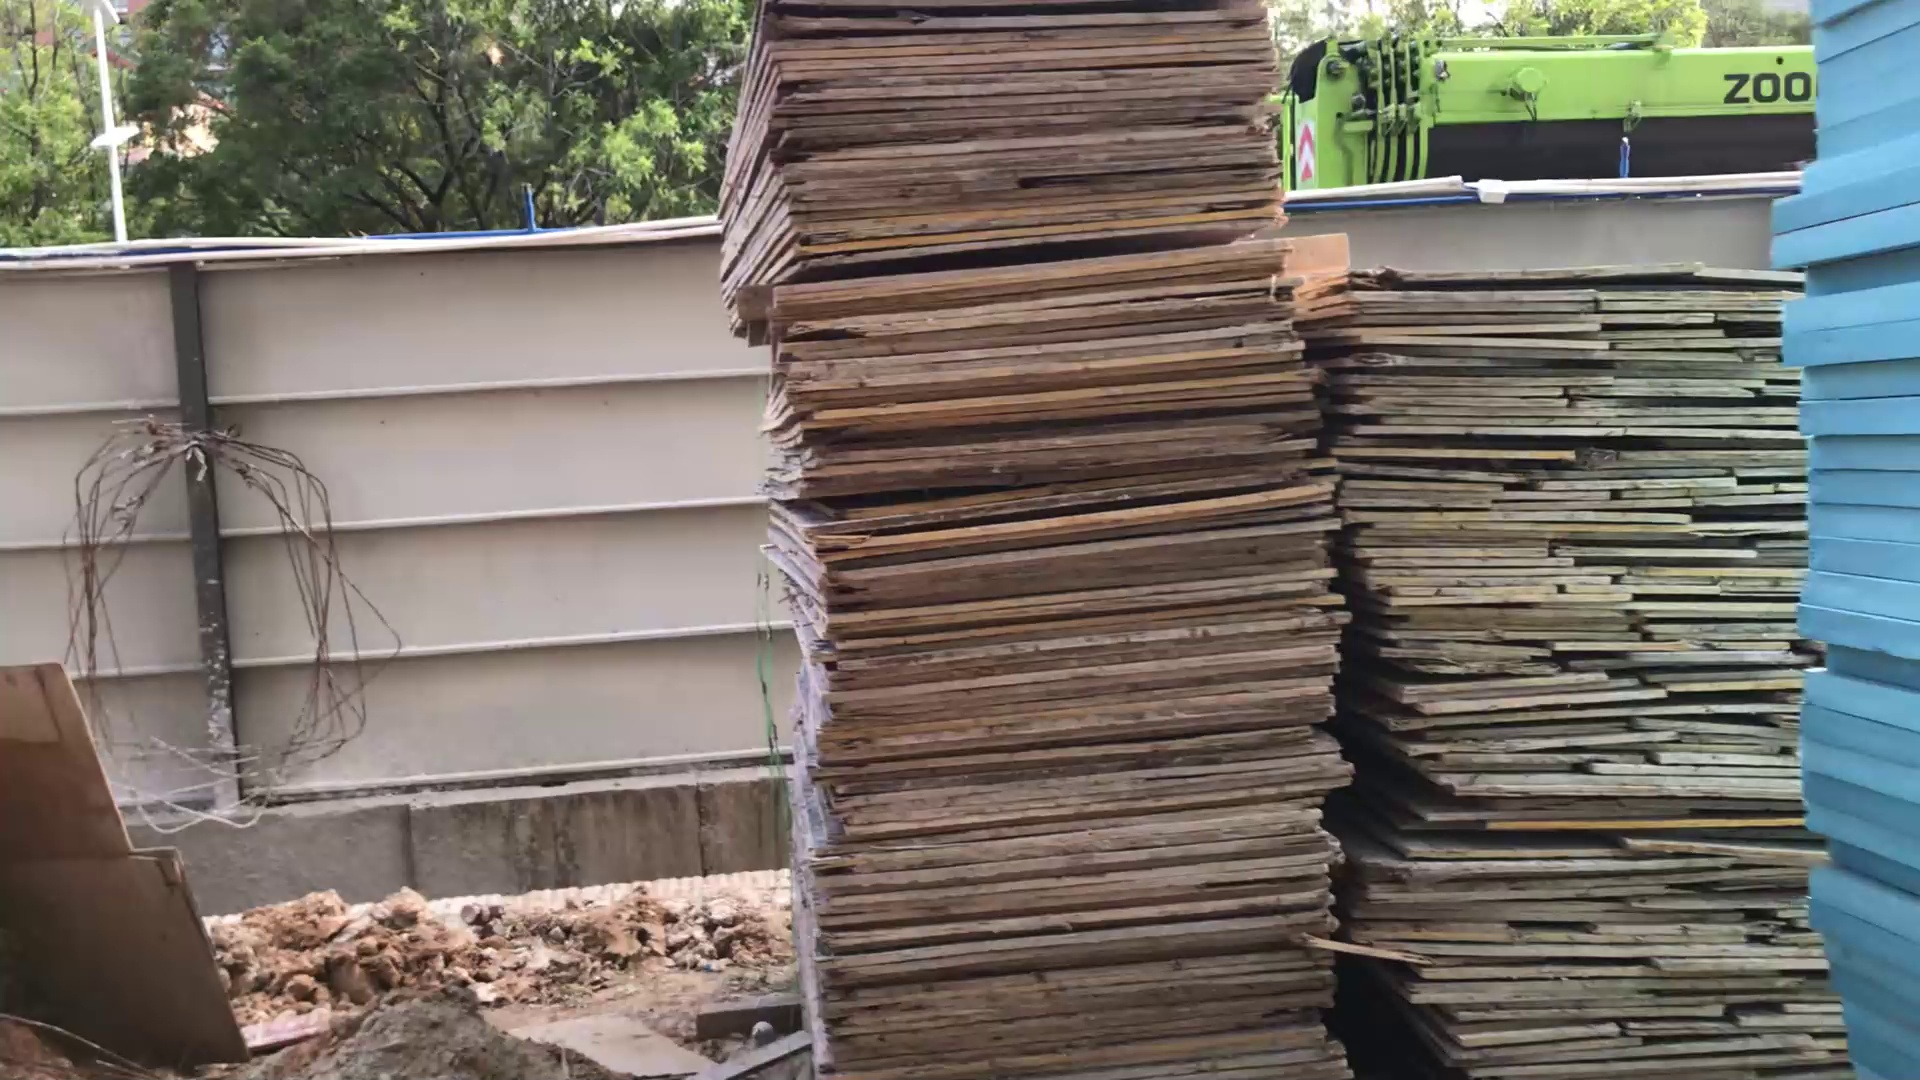board: (713, 1, 1356, 1080), (1304, 265, 1845, 1079)
